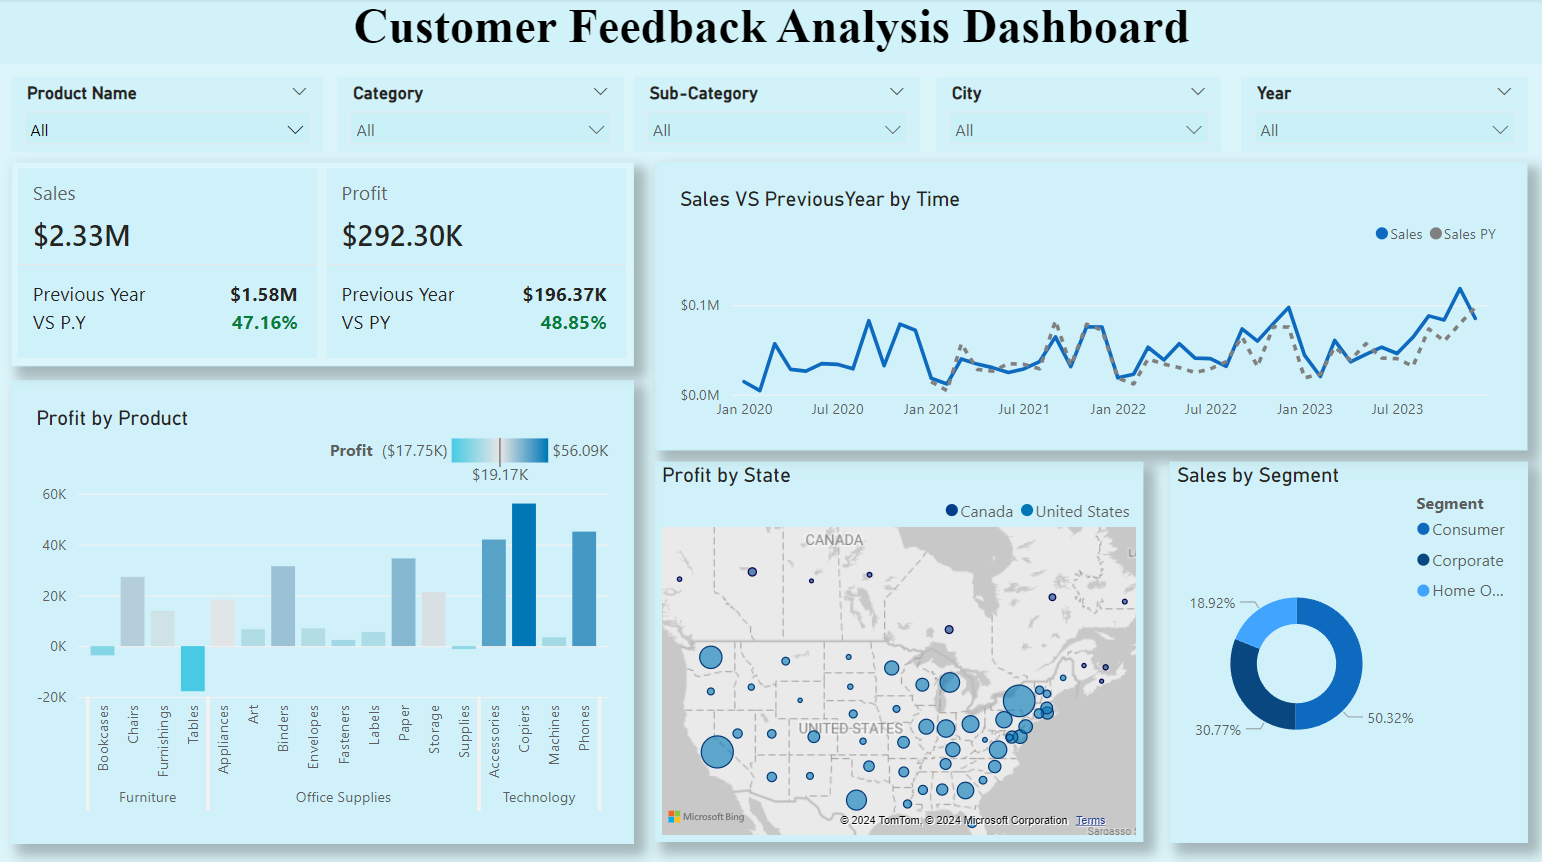

The page's visual inventory and layout, read from the dashboard file:
{"tool":"powerbi","page":{"name":"Dashboard","canvas":[1280,720],"ordinal":0},"visuals":[{"type":"cardVisual","fields":{"Data":["Key Measures.Sales","Key Measures.Profit"]},"box":[9.3,136,516.3,169.8],"z":0},{"type":"shape","title":"DashBoard","box":[0,0,1279.8,54.9],"z":1000},{"type":"lineChart","title":"Sales VS PreviousYear by Time","fields":{"Y":["Key Measures.Sales","Key Measures.Sales PY"],"Category":["Date Table.Start of Month"]},"box":[543,136,723.3,239.5],"z":2000},{"type":"columnChart","title":"Profit by Product","fields":{"Category":["Orders.Category","Orders.Sub-Category"],"Y":["Sum(Orders.Profit)"]},"box":[9.3,317.4,516.3,383.7],"z":3000},{"type":"map","title":"Profit by State","fields":{"Size":["Key Measures.Profit"],"Category":["Orders.State/Province"],"Series":["Orders.Country/Region"]},"box":[543,384.9,404.7,315.1],"z":4000},{"type":"donutChart","fields":{"Y":["Key Measures.Sales"],"Category":["Orders.Segment"]},"box":[969.8,384.9,296.5,316.3],"z":5000},{"type":"slicer","fields":{"Values":["Orders.Product Name"]},"box":[9.3,65.3,258,62.2],"z":6000},{"type":"slicer","fields":{"Values":["Orders.Category"]},"box":[279.8,65.3,237.3,62.2],"z":7000},{"type":"slicer","fields":{"Values":["Orders.City"]},"box":[776.2,65.3,236.3,62.2],"z":8000},{"type":"slicer","fields":{"Values":["Date Table.Year"]},"box":[1029,65.3,237.3,62.2],"z":9000},{"type":"slicer","fields":{"Values":["Orders.Sub-Category"]},"box":[525.4,65.3,237.3,62.2],"z":10000}]}

Visuals, with their boxes in screenshot pixels (x1, y1, x2, y2), scaled from the page's 1280x720 canvas onto the 1542x862 screenshot:
cardVisual - Key Measures.Sales x Key Measures.Profit: 11,163,633,366
"DashBoard" shape: 0,0,1541,66
"Sales VS PreviousYear by Time" lineChart: 654,163,1525,450
"Profit by Product" columnChart: 11,380,633,839
"Profit by State" map: 654,461,1142,838
donutChart - Key Measures.Sales x Orders.Segment: 1168,461,1525,839
slicer - Orders.Product Name: 11,78,322,153
slicer - Orders.Category: 337,78,623,153
slicer - Orders.City: 935,78,1220,153
slicer - Date Table.Year: 1240,78,1525,153
slicer - Orders.Sub-Category: 633,78,919,153
